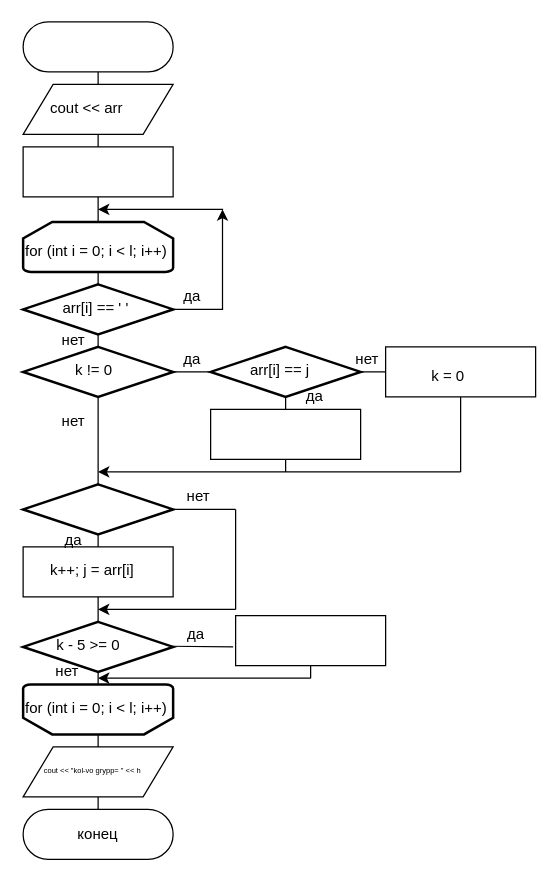
Image size: 558x881. Some labels were removed from this diagram. The centre of each missing label's shape, as x and y in pixels:
"h++" belongs at point 310,640.
"h=0,k = 0, j, l = strlen(arr)" belongs at point 97,171.
"k == 0" belongs at point 97,508.
"k++" belongs at point 285,433.
"начало" belongs at point 97,46.
